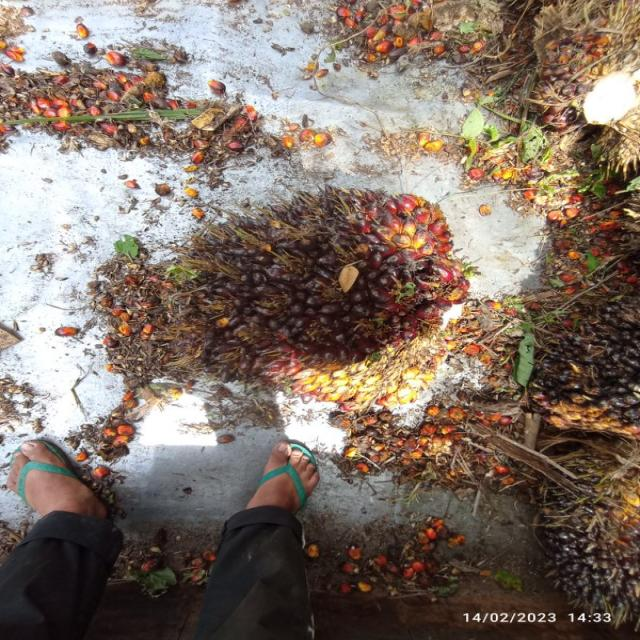fraksi 1: (186, 181, 472, 412)
